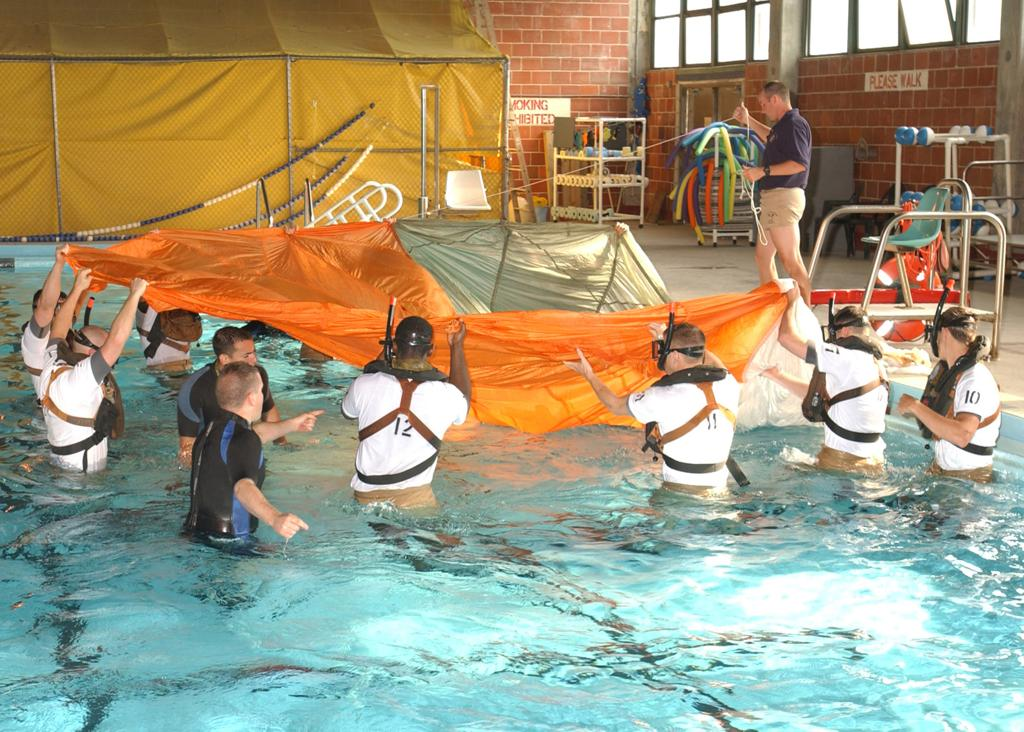face: (230, 339, 257, 376), (246, 372, 263, 422), (658, 331, 679, 371), (932, 316, 950, 359), (43, 298, 66, 330), (757, 93, 774, 120)
